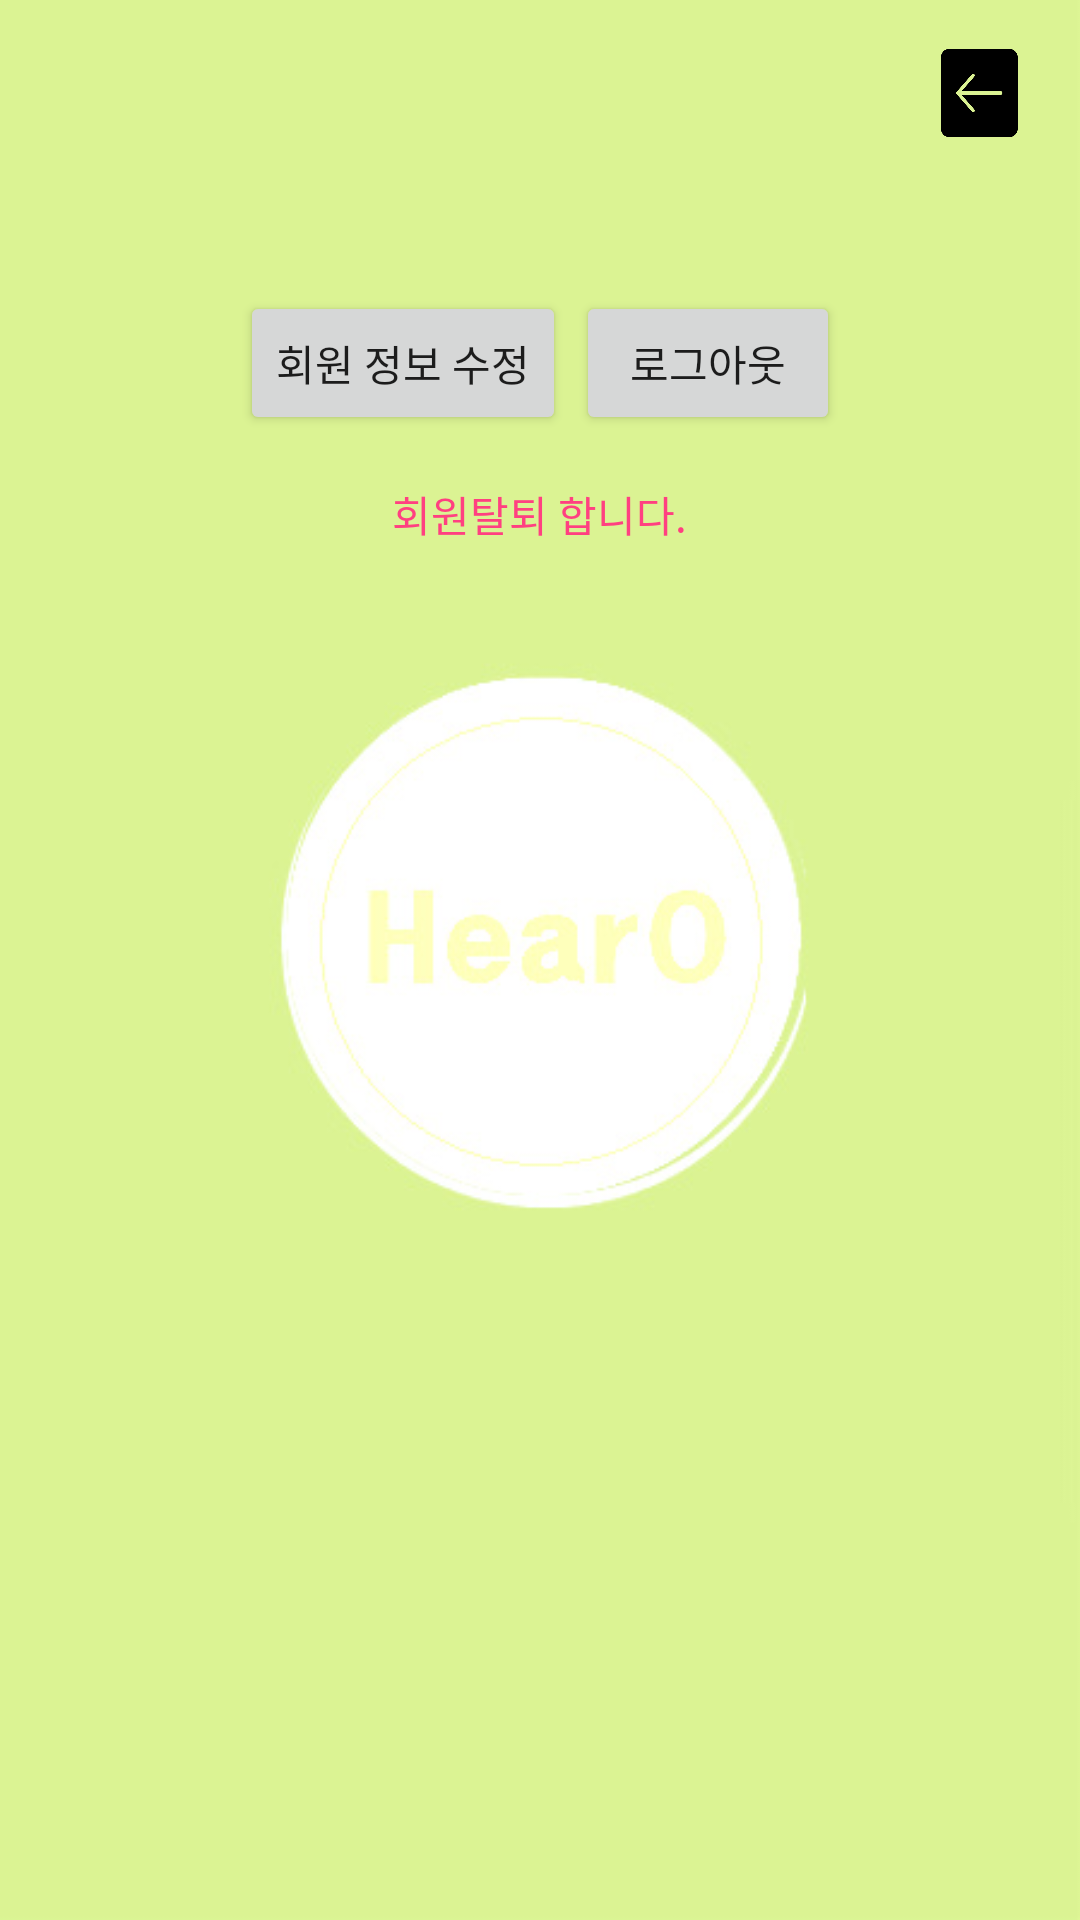

Where to tap for icons on this 1080 x 1920 app screen, as [x,y]:
backimgj: [979,93]
